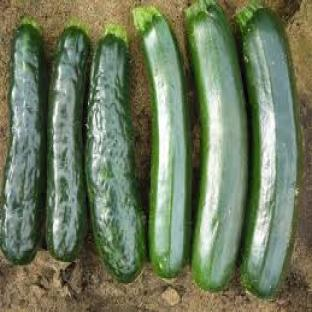Zucchini: (237, 5, 301, 297), (134, 7, 191, 278), (86, 26, 144, 283), (0, 18, 46, 263), (46, 25, 90, 262)
